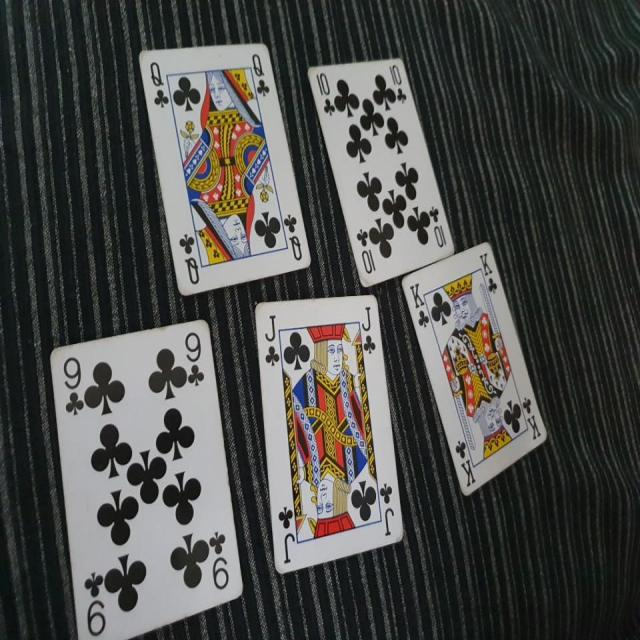10 Trefoils: (306, 58, 455, 290)
9 Trefoils: (49, 317, 244, 640)
J Trefoils: (254, 288, 405, 576)
K Trefoils: (401, 240, 548, 496)
Q Trefoils: (134, 41, 313, 296)
